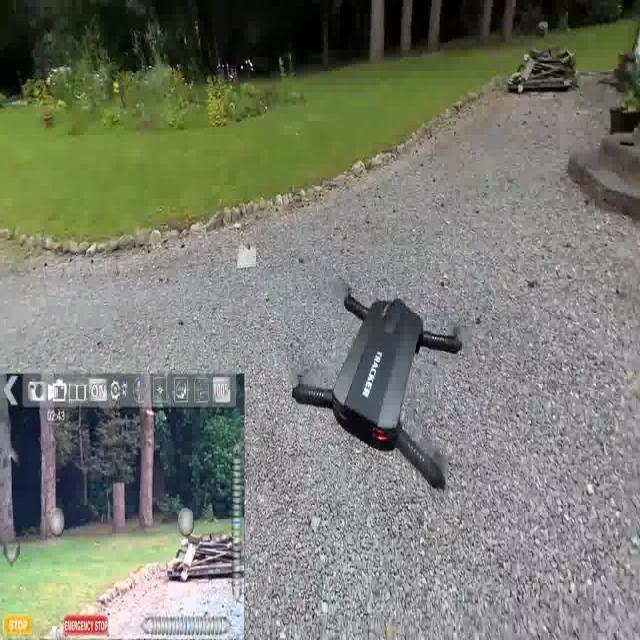Drone_FW: (291, 284, 471, 490)
